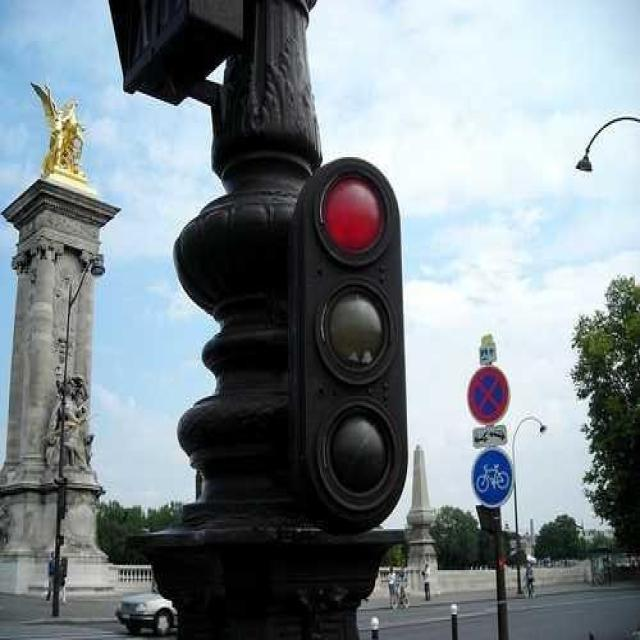Traffic Light -Red-: (300, 146, 415, 546)
